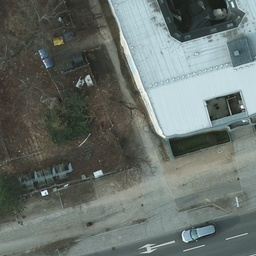car: (182, 221, 222, 245)
